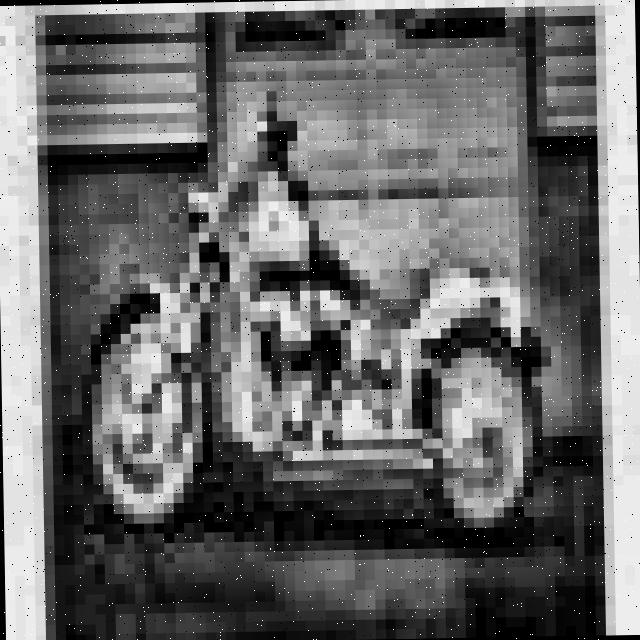mopeds: (63, 107, 549, 553)
